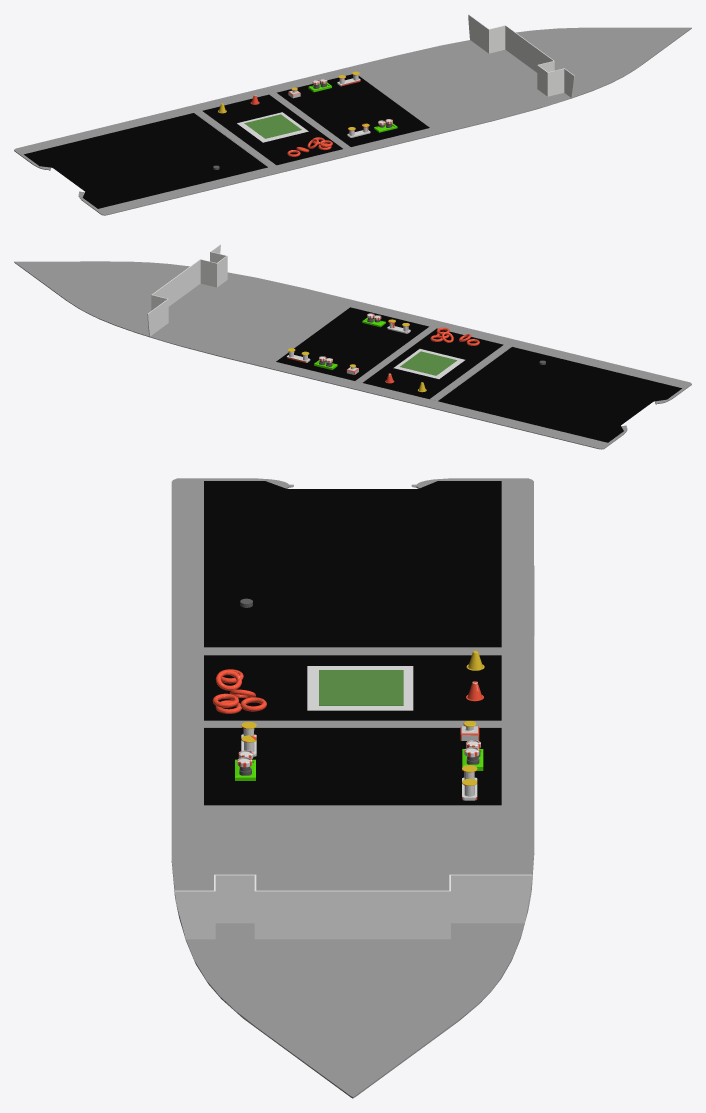
File: mooring_front_main_deck.dae
3 views of the same model, one above another, from view 1: azimuth 30°, elevation 25°; view 2: azimuth 150°, elevation 25°; view 3: azimuth 270°, elevation 25° (orthographic). The views are drawn at different scales.
Parts seen in each view (by area): view 1: node8.004, node1.004, node2.004, node0.005, Cube.003, node4.001, node6.004, Plane; view 2: node8.004, node1.004, node2.004, node0.005, Cube.003, node6.004, node4.001, Plane; view 3: node8.004, node1.004, node2.004, node0.005, Cube.003, node4.001, node6.004, Plane.
Part boxes in pixels (x1,y1,x2,y2): node8.004: (14,27,691,215); node1.004: (24,113,267,208); node2.004: (202,74,429,165); node0.005: (468,14,574,97); Cube.003: (244,114,301,138); node4.001: (195,111,275,166); node6.004: (269,92,350,148); Plane: (237,112,308,142); node8.004: (14,261,691,449); node1.004: (438,347,681,442); node2.004: (276,307,503,399); node0.005: (147,244,227,336); Cube.003: (400,351,456,375); node6.004: (355,326,436,382); node4.001: (430,345,510,400); Plane: (393,349,464,378); node8.004: (171,478,534,1098); node1.004: (204,481,501,647); node2.004: (204,655,501,805); node0.005: (174,874,532,939); Cube.003: (319,670,403,705); node4.001: (204,648,501,655); node6.004: (204,720,501,727); Plane: (307,666,413,710).
Size of the model in its own units: 1.38 by 0.3424 by 0.0519.
